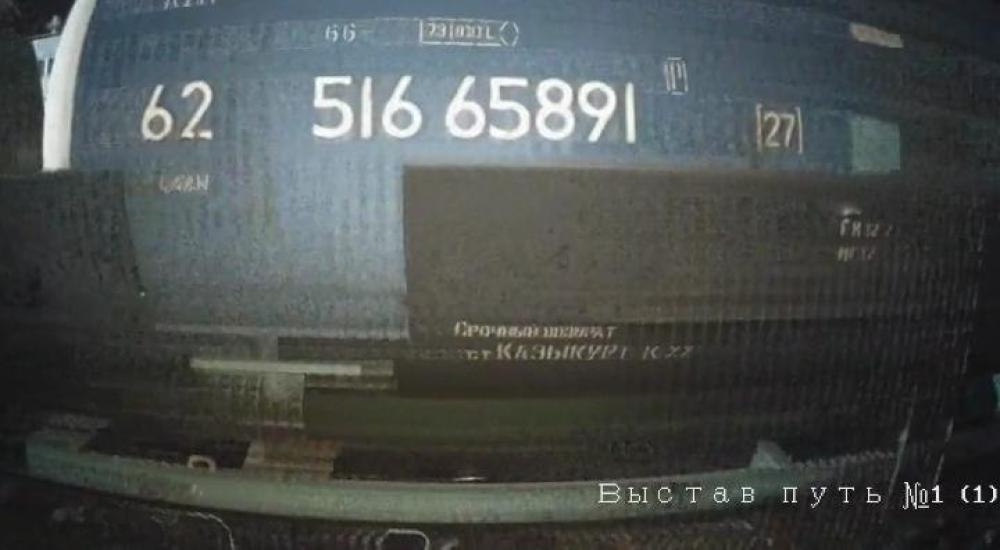Wagon-number: (307, 71, 644, 149)
